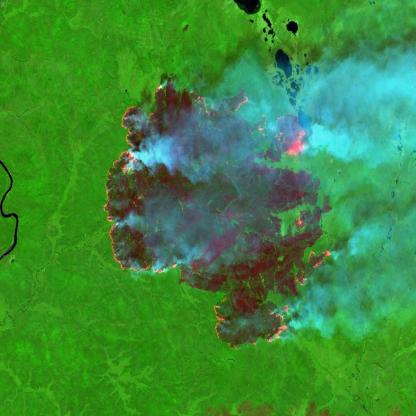fire: (104, 76, 333, 350)
